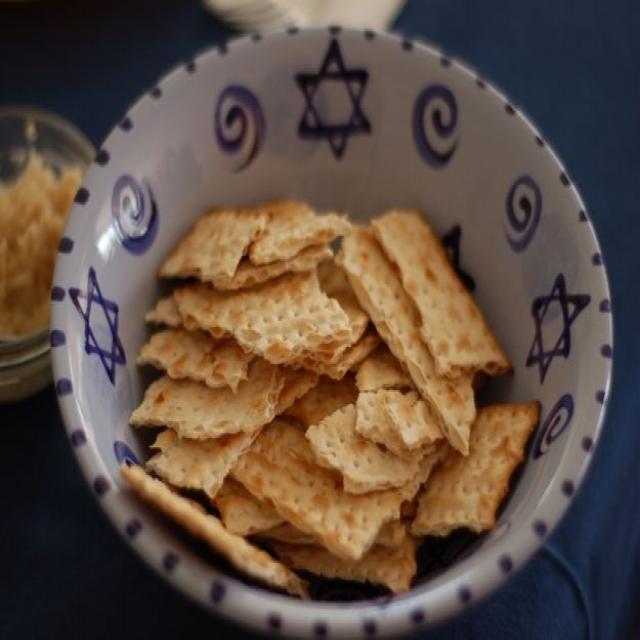Cracker: (371, 199, 506, 395), (171, 270, 355, 364), (161, 199, 261, 285)
